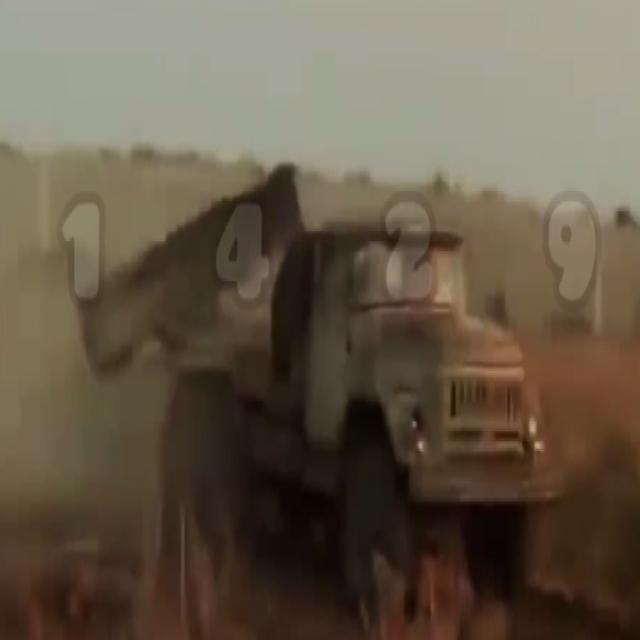MLRS: (66, 149, 564, 603)
